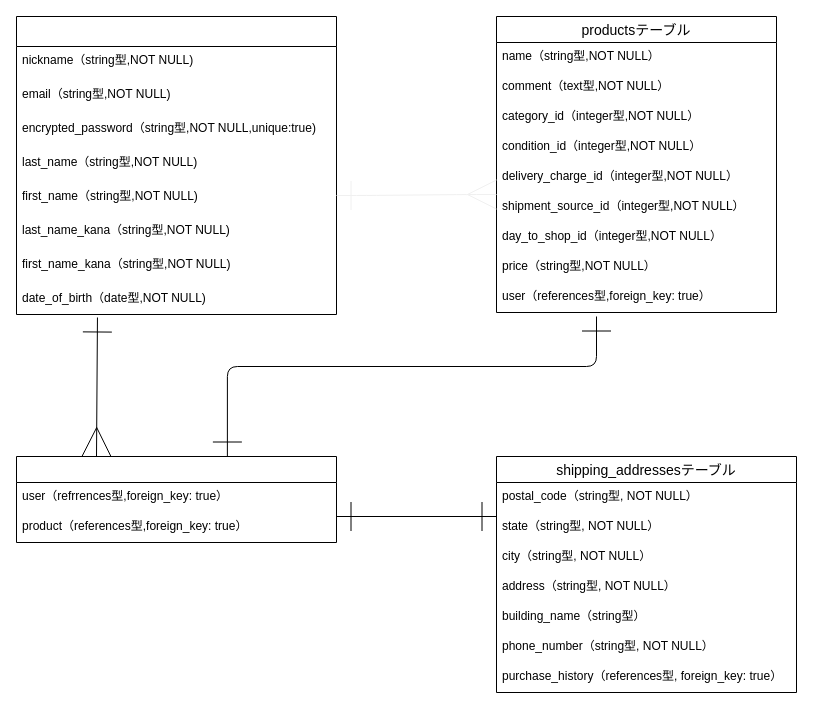
This 813x709 diagram has some shape labels left out. The shapes that lost their labels are listed below. From the top down, each one's box as (x1, y1, x2, y2) in pixels, then its label:
(16, 16, 336, 314): usersテーブル
(16, 456, 336, 542): purchase_historiesテーブル
